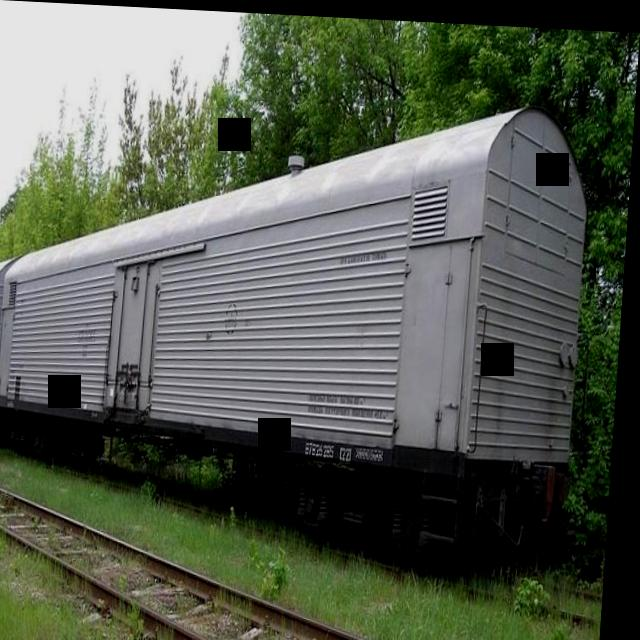boxcar: (0, 70, 604, 569), (0, 240, 17, 446)
